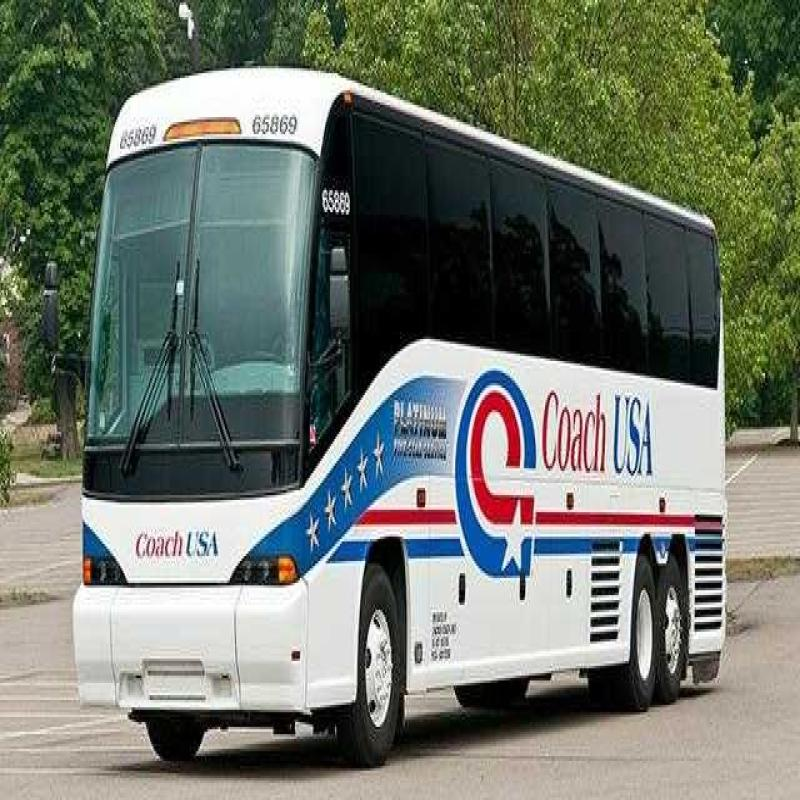bus: (71, 49, 737, 733)
